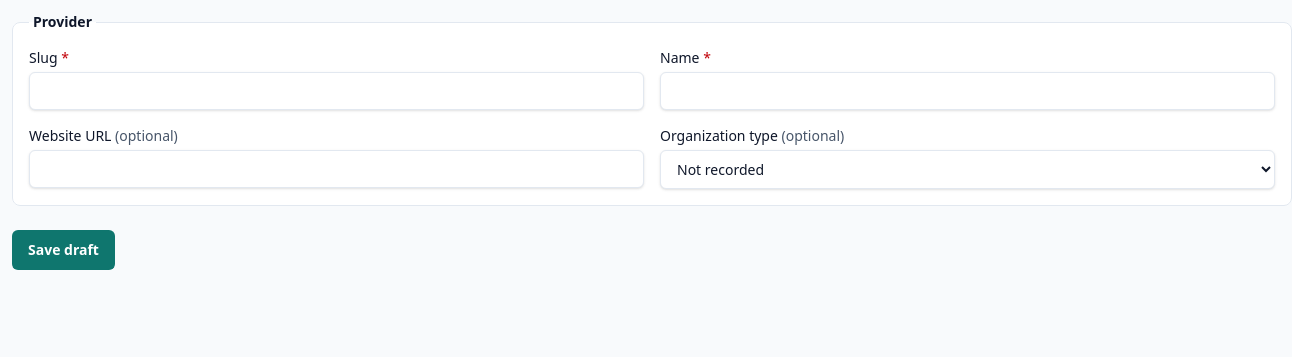
it: DraftForm › sends valid input with its hidden table
In the field labelled "Slug *": (336, 91) [29, 72, 644, 110], type "test-provider-labs"
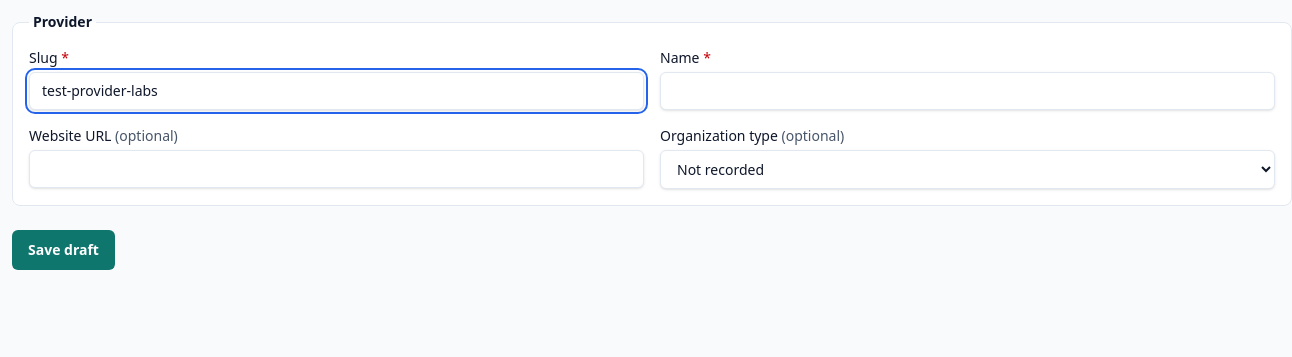
In the field labelled "Name *": (968, 91) [660, 72, 1275, 110], type "Test Provider Labs"
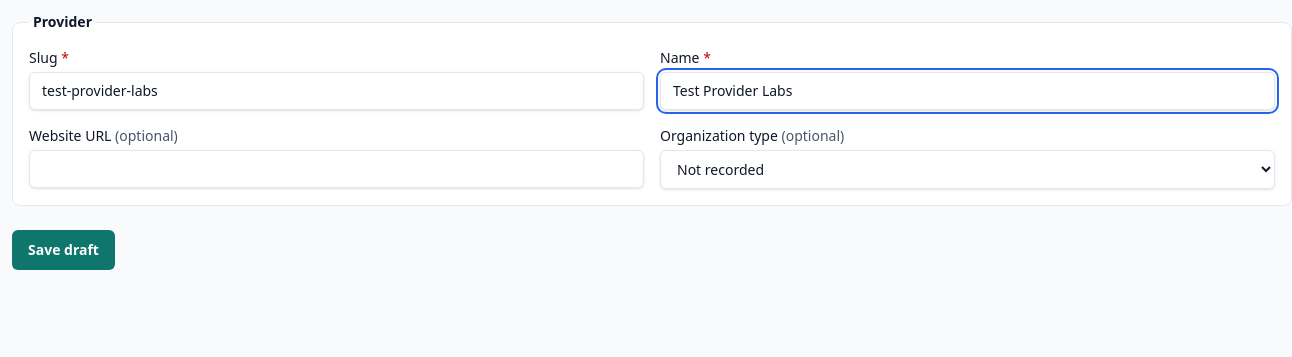
Click the button "Save draft": (64, 250) [12, 230, 115, 270]
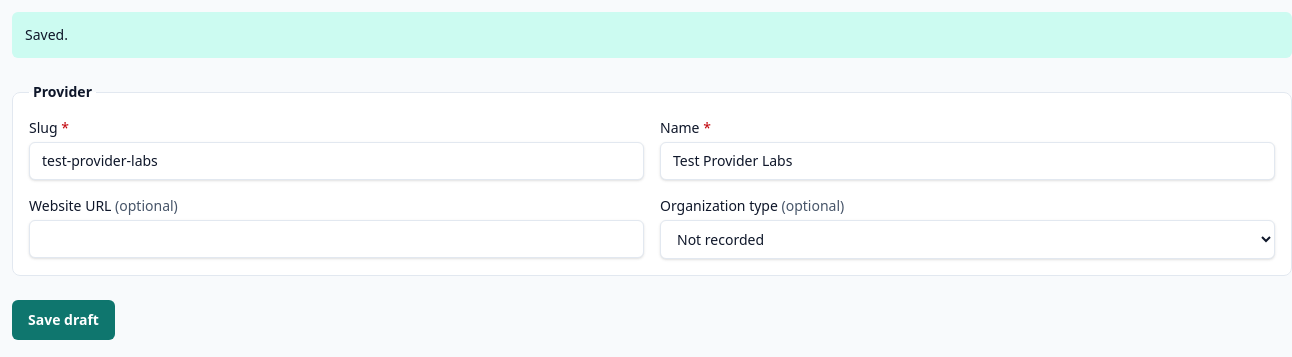
Expected: the message reads "Saved.", [25, 25, 68, 44]
